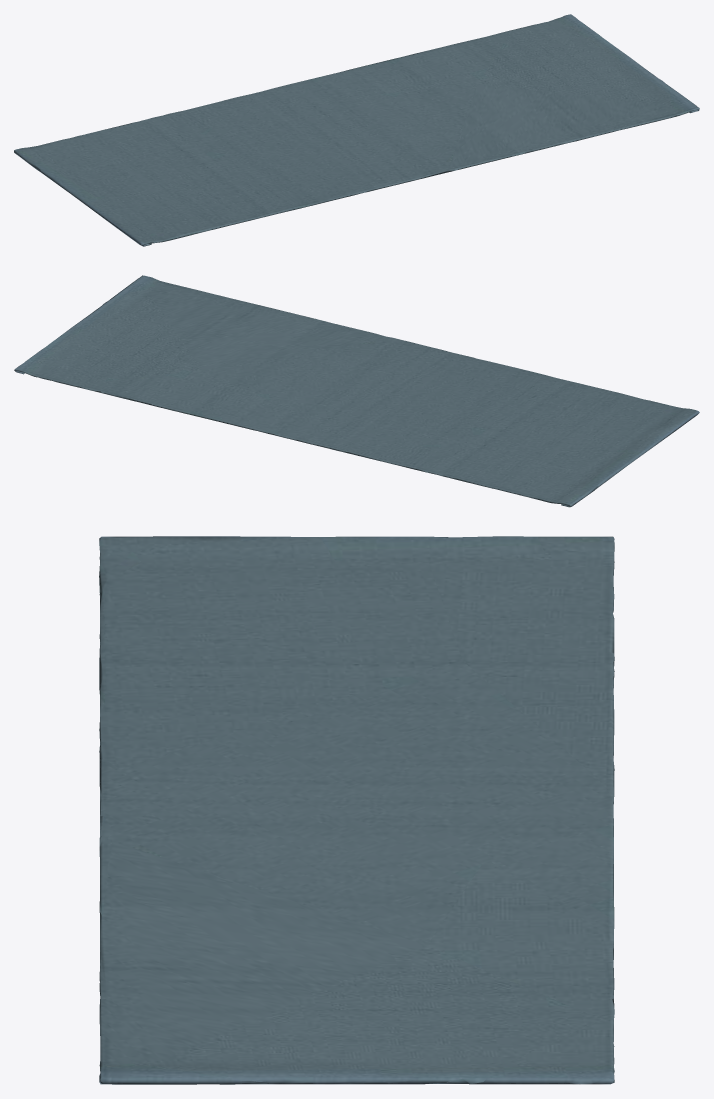
Rendered from 14 - TIDTABELL Rug, flatwoven - grey-blue 80x200 cm.glb.
3 views of the same model, one above another, from view 1: azimuth 30°, elevation 25°; view 2: azimuth 150°, elevation 25°; view 3: azimuth 270°, elevation 25° (orthographic). The views are drawn at different scales.
Visible parts, largest first — view 1: 30561872-TIDTABELL001; view 2: 30561872-TIDTABELL001; view 3: 30561872-TIDTABELL001.
Boxes of the visible parts, box(x1,y1,x2,y2) form: 30561872-TIDTABELL001: box(14, 14, 699, 246); 30561872-TIDTABELL001: box(14, 275, 699, 507); 30561872-TIDTABELL001: box(99, 536, 614, 1084).
Size of the model in its own units: 2 by 0.0124 by 0.8006.
1 material, 1 textured.
